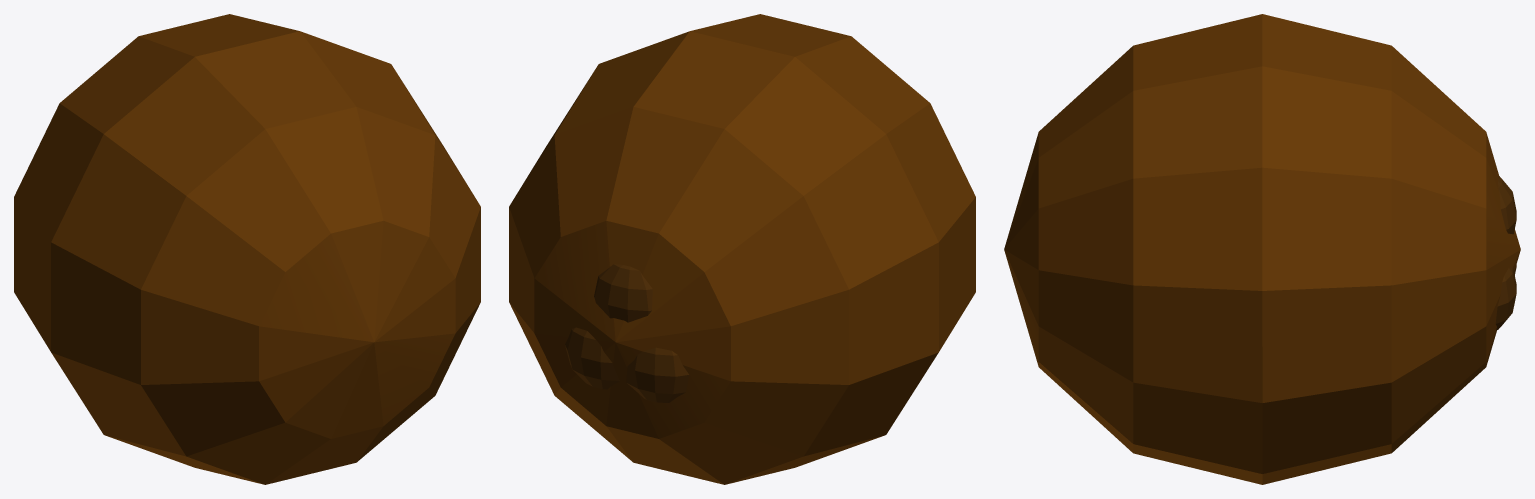
Rendered from coconut_animated_idle.glb.
3 renders of one model, left to right at view 1: azimuth 30°, elevation 25°; view 2: azimuth 150°, elevation 25°; view 3: azimuth 270°, elevation 25°, orthographic.
Parts seen in each view (by area): view 1: sphere.003; view 2: sphere.003; view 3: sphere.003.
Part boxes in pixels (x1=…): sphere.003: x1=14, y1=14, x2=480, y2=484; sphere.003: x1=509, y1=14, x2=975, y2=484; sphere.003: x1=1004, y1=14, x2=1520, y2=484.
Size of the model in its own units: 1 by 1 by 1.12.
Materials: 1 (1 with a texture image).
